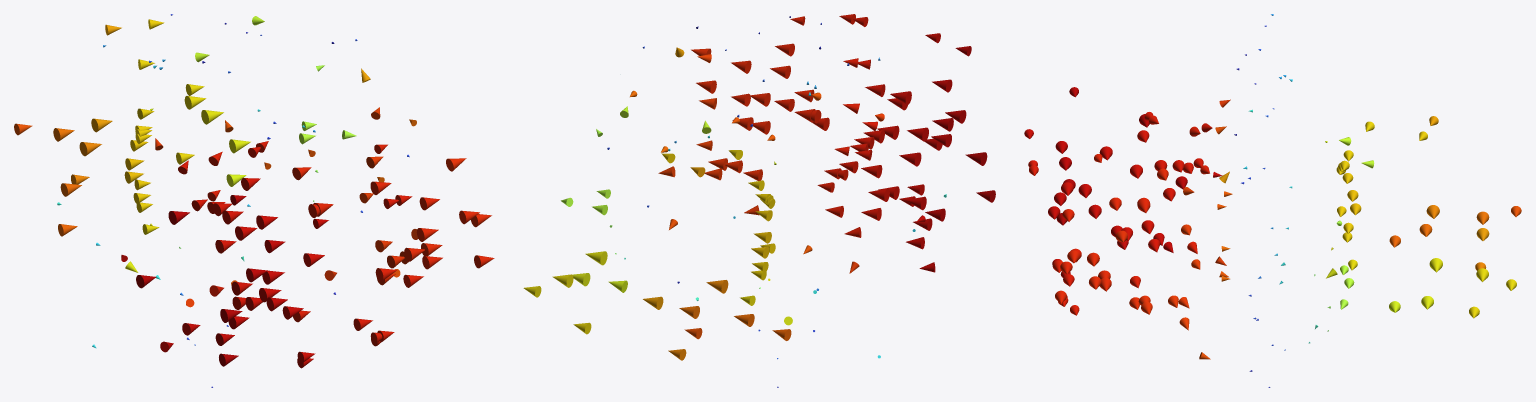
File: LineasCorrienteH2-O2_mh2-8.20_V-0.8.glb
3 renders of one model, left to right at view 1: azimuth 30°, elevation 25°; view 2: azimuth 150°, elevation 25°; view 3: azimuth 270°, elevation 25°, orthographic. The views are drawn at different scales.
Bounding box in the file's own units: 0.000905 × 0.000949 × 0.00124.
Materials: 2 (2 with a texture image).
